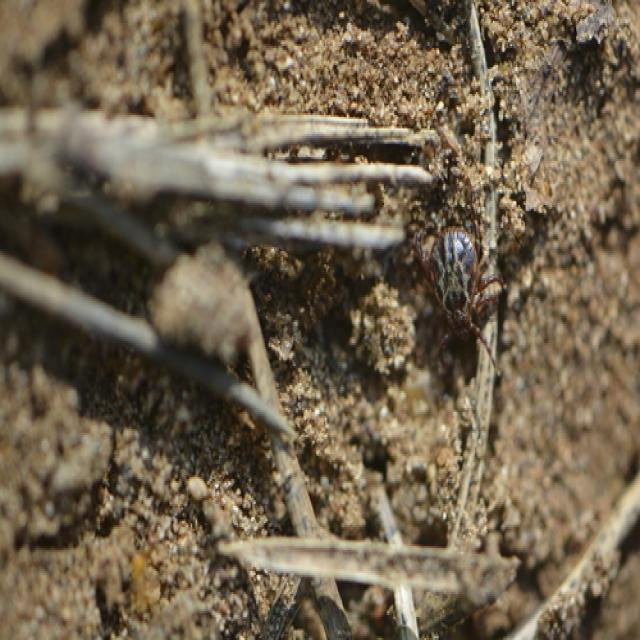Dermacentor Reticulatus-M: (413, 209, 506, 374)
